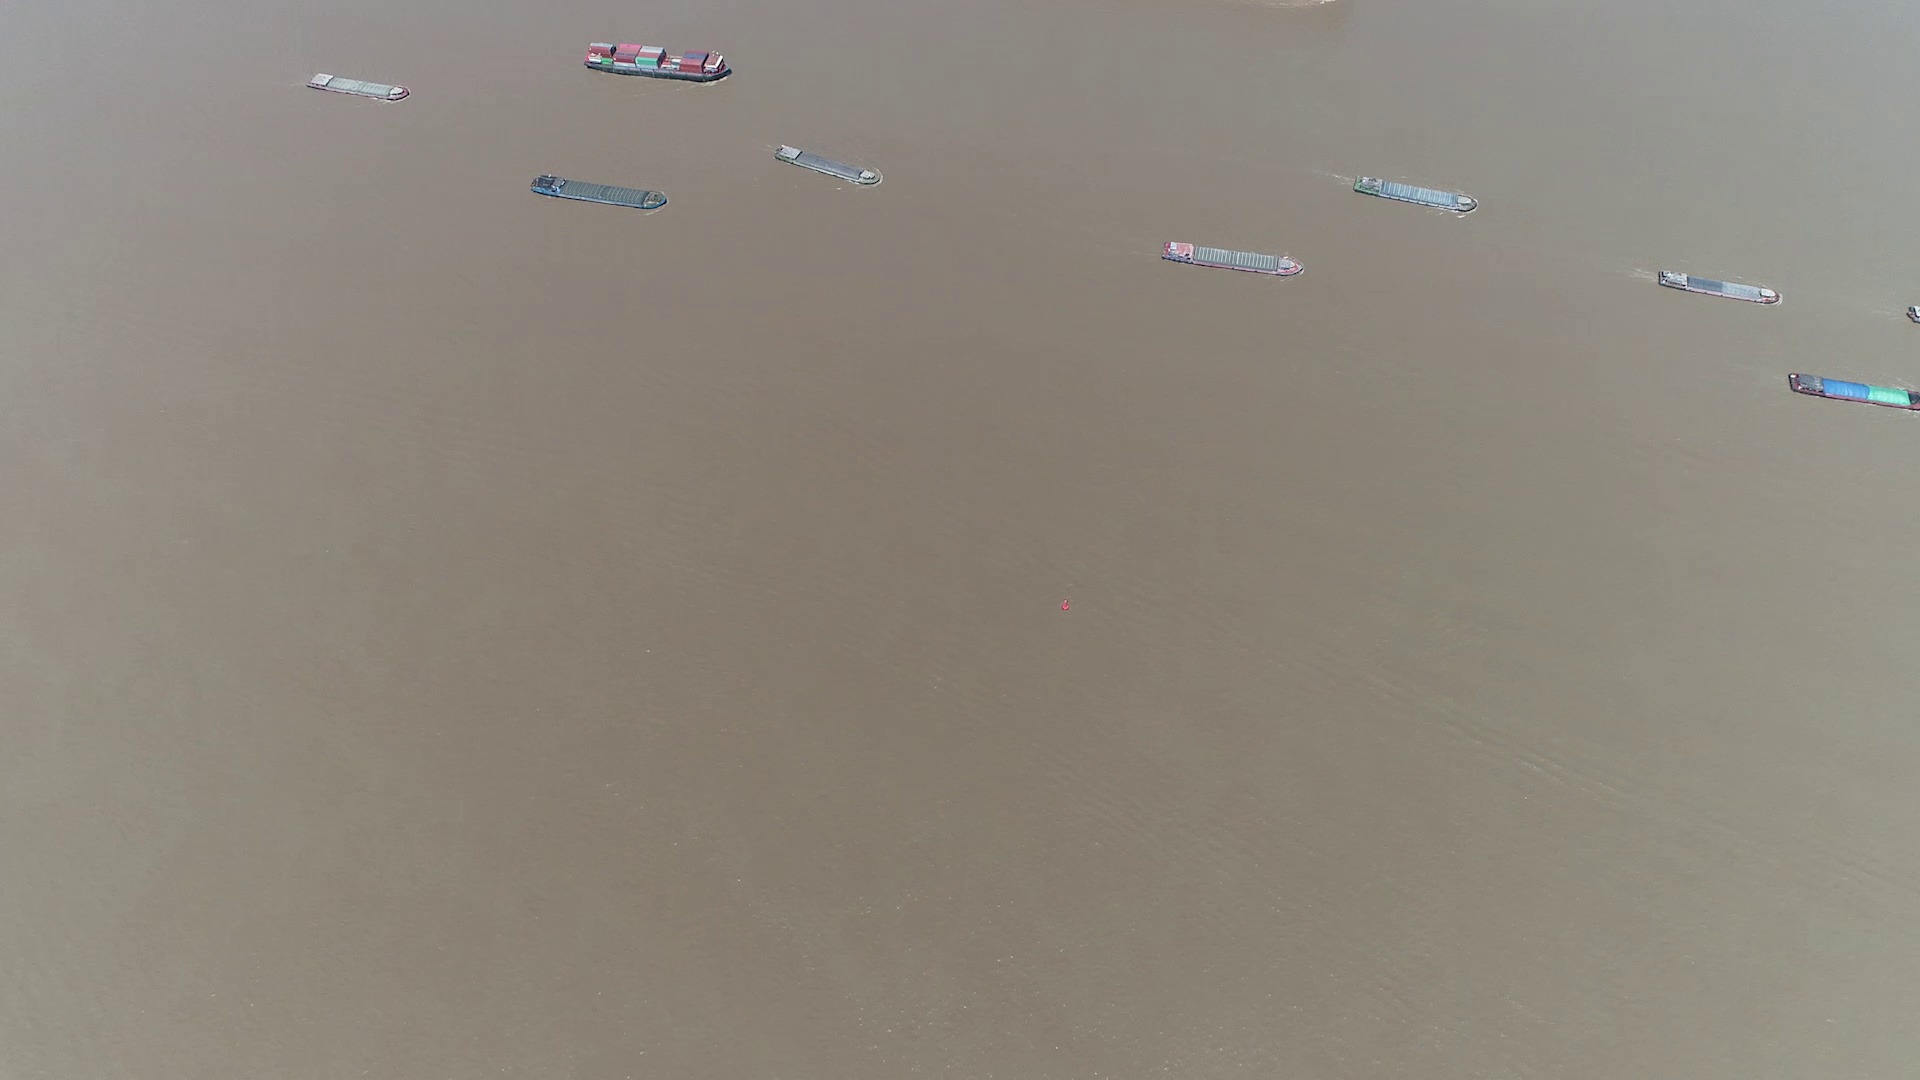ship: (584, 40, 735, 80), (1163, 241, 1304, 278), (1787, 372, 1920, 410), (530, 174, 666, 211), (774, 145, 884, 189), (1354, 175, 1477, 214), (1656, 269, 1780, 305), (307, 73, 407, 102)
